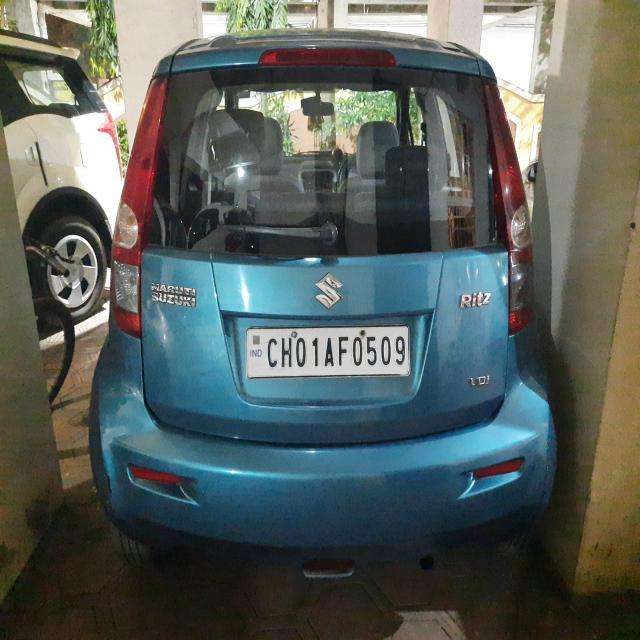Number-Plate: (245, 328, 407, 372)
